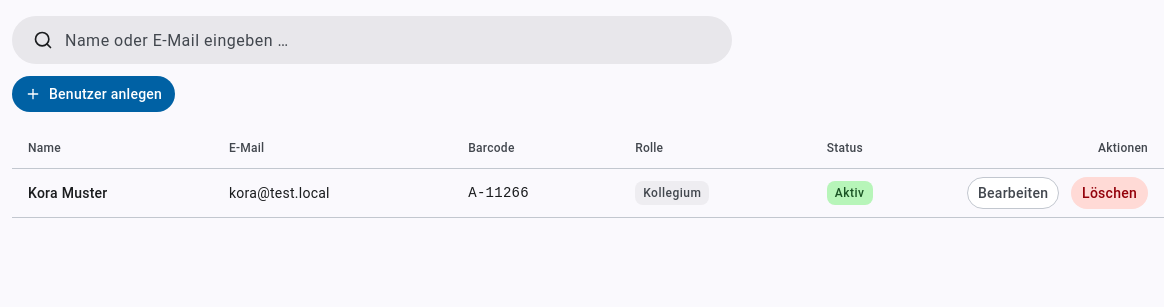
Scenario: Benutzerliste: Meldungen › filtert die Liste nach dem Suchtext und sagt, wenn nichts passt
Expected: the table named "Benutzerkonten" is shown, x1=12 y1=128 x2=1163 y2=218
In the search field named "Benutzer suchen": (382, 40) x1=53 y1=17 x2=711 y2=63, type "A-112"
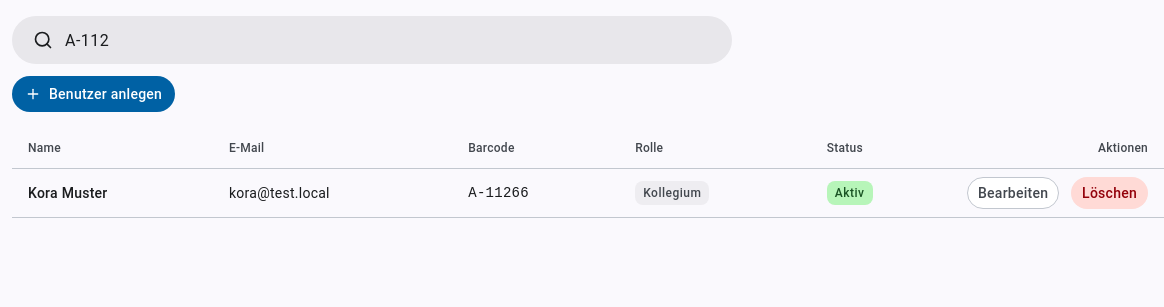
Expected: the text "Kora Muster" is shown, x1=28 y1=184 x2=108 y2=200
Replace the text in the search field named "Benutzer suchen" with "niemand": (382, 40) x1=53 y1=17 x2=711 y2=63
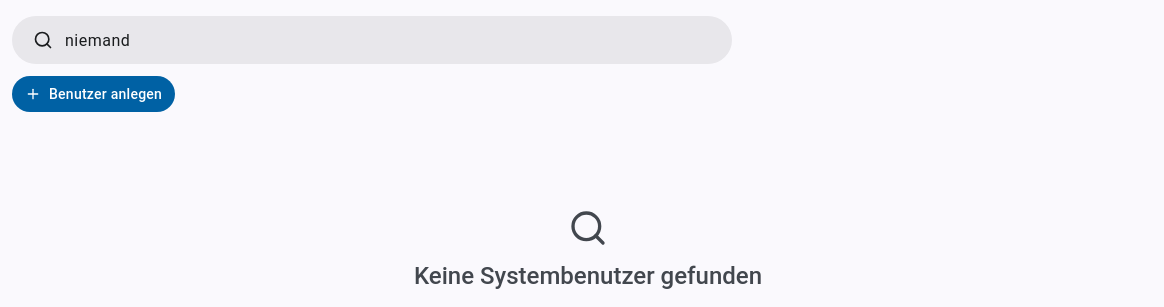
Result: the text "Kora Muster" is gone
Result: the text "Keine Systembenutzer gefunden" is shown at x1=414 y1=262 x2=762 y2=290
